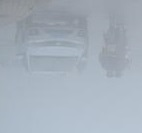person: (99, 17, 116, 78), (114, 20, 130, 78)
